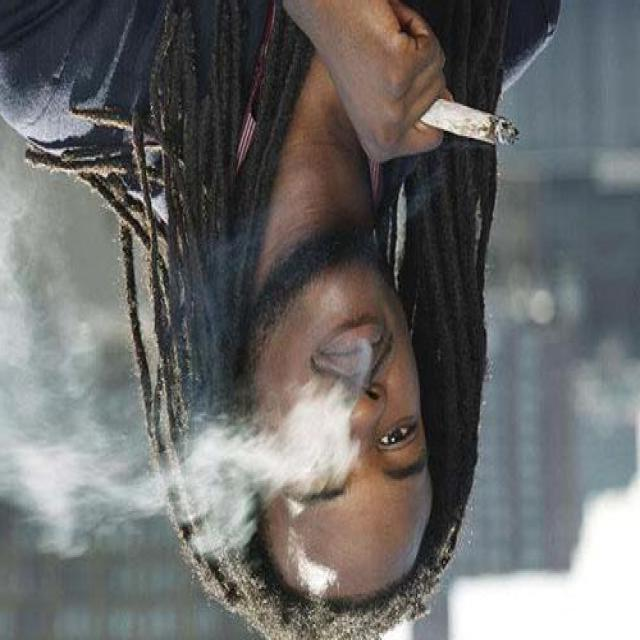cigarette: (414, 92, 532, 174)
